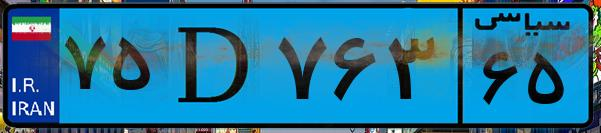3: (385, 28, 445, 110)
5: (525, 38, 570, 115), (110, 28, 158, 98)
6: (330, 28, 385, 110), (475, 38, 525, 113)
7: (270, 28, 330, 110), (57, 26, 110, 100)
D: (158, 12, 270, 120)
